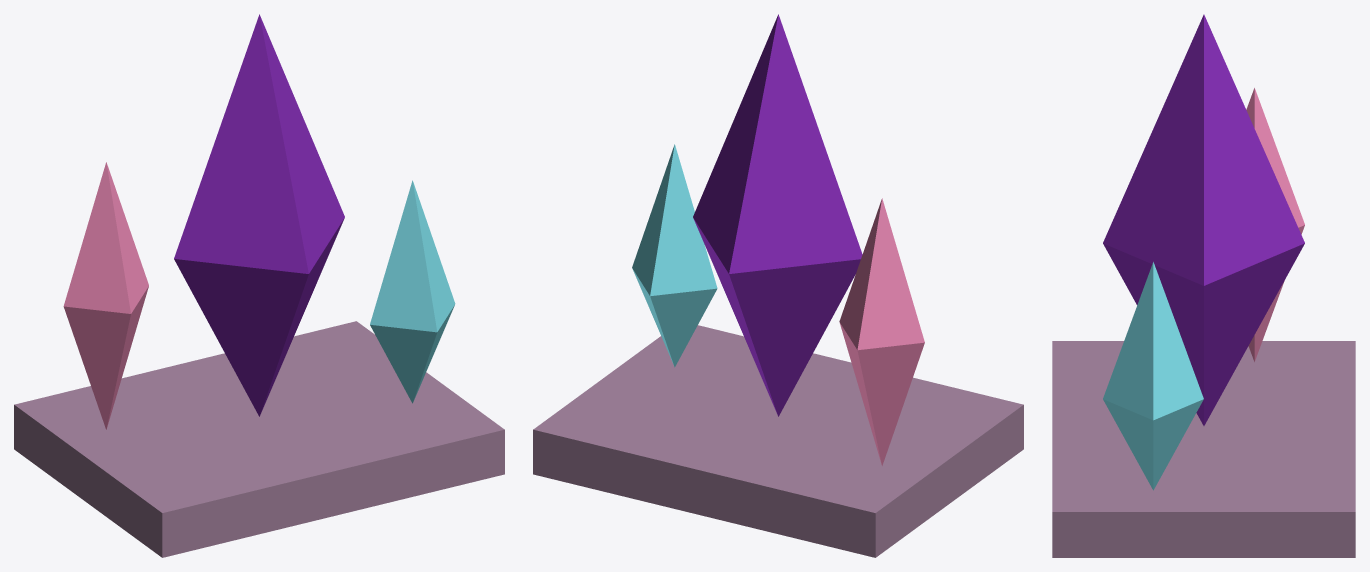
The model's file is cristal.glb.
3 renders of one model, left to right at view 1: azimuth 30°, elevation 25°; view 2: azimuth 150°, elevation 25°; view 3: azimuth 270°, elevation 25°, orthographic. The views are drawn at different scales.
Parts seen in each view (by area): view 1: pedra, cristal-grande, cristal-rosa, cristal-azul; view 2: pedra, cristal-grande, cristal-rosa, cristal-azul; view 3: pedra, cristal-grande, cristal-azul, cristal-rosa.
Part boxes in pixels (<box>): pedra: <box>14,321,504,557</box>; cristal-grande: <box>174,14,344,416</box>; cristal-rosa: <box>63,162,148,429</box>; cristal-azul: <box>370,180,455,403</box>; pedra: <box>533,325,1023,557</box>; cristal-grande: <box>693,14,862,416</box>; cristal-rosa: <box>839,198,924,465</box>; cristal-azul: <box>632,144,717,367</box>; pedra: <box>1052,341,1355,557</box>; cristal-grande: <box>1103,14,1304,425</box>; cristal-azul: <box>1103,262,1203,490</box>; cristal-rosa: <box>1246,88,1304,361</box>.
Size of the model in its own units: 8 by 10 by 6.
4 materials, 4 textured.
